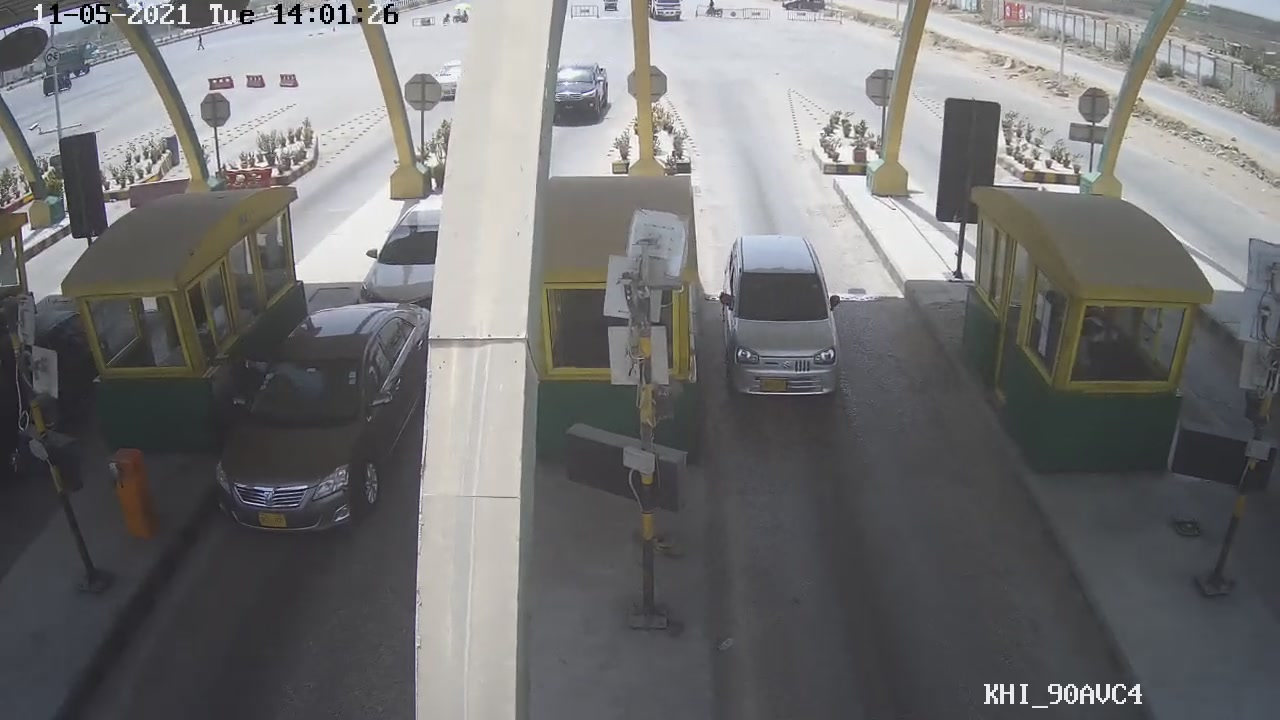F1: (722, 237, 848, 403)
